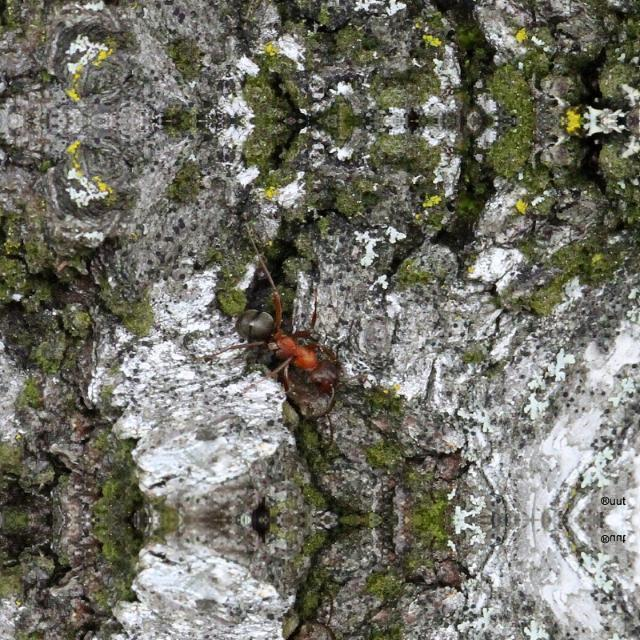Formica: (228, 288, 370, 408)
